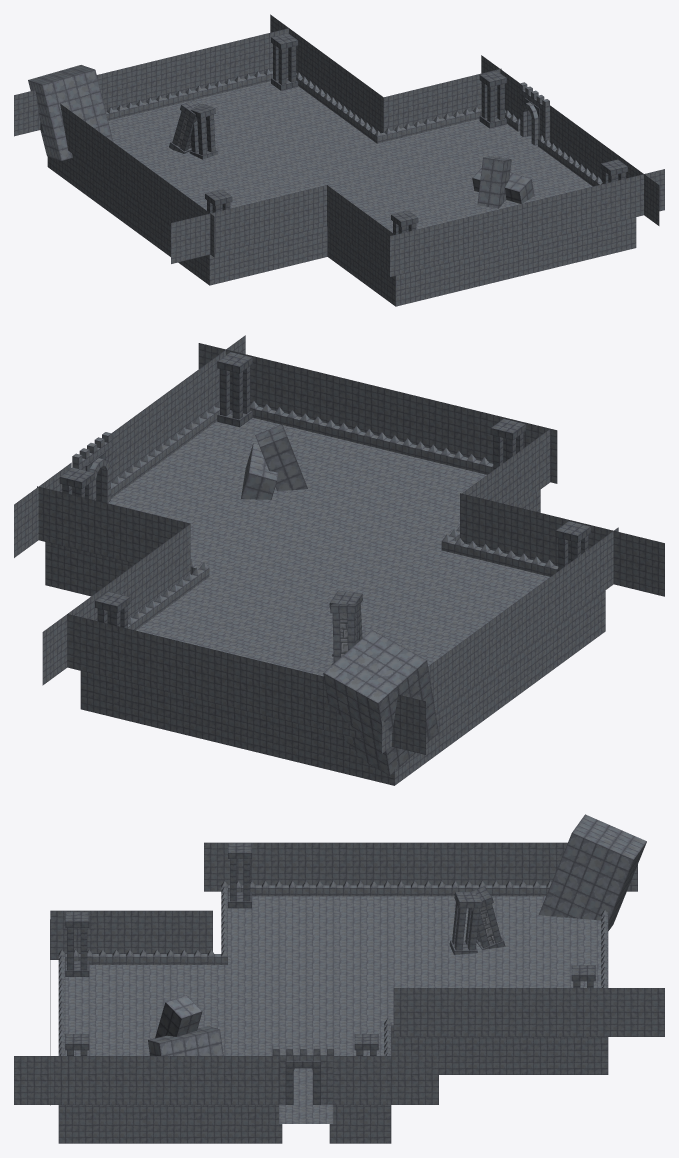
File: GameObject.fbx
The picture shows the model from 3 angles, top to bottom: view 1: azimuth 30°, elevation 25°; view 2: azimuth 150°, elevation 25°; view 3: azimuth 270°, elevation 25°; orthographic projection. The views are drawn at different scales.
Parts seen in each view (by area): view 1: Castle_Block_5x5x7__2_, Castle_Ground___Bright_8x8__22_, Castle_Ground___Bright_8x8__23_, Castle_Ground___Bright_8x8__25_, Castle_Ground___Bright_8x8__26_, Castle_Ground___Bright_8x8__33_, Castle_Ground___Bright_8x8__21_, Castle_Ground___Bright_8x8__24_, Castle_Ground___Bright_8x8__20_, Castle_Ground___Bright_8x8__34_, Castle_Ground___Bright_8x8__36_, Castle_Ground___Bright_8x8__35_ (+101 smaller); view 2: Castle_Block_5x5x7__2_, Castle_Ground___Bright_8x8__36_, Castle_Ground___Bright_8x8__40_, Castle_Ground___Bright_8x8__37_, Castle_Ground___Bright_8x8__39_, Castle_Ground___Bright_8x8__21_, Castle_Ground___Bright_8x8__17__1, Castle_Ground___Bright_8x8__18__1, Castle_Ground___Bright_8x8__35_, Castle_Ground___Bright_8x8__24_, Castle_Ground___Bright_8x8__25_, Castle_Ground___Bright_8x8__23_ (+97 smaller); view 3: Castle_Block_5x5x7__2_, Castle_Ground___Bright_8x8__3_, Castle_Ground___Bright_8x8__3__1, Castle_Ground___Bright_8x8__3__2, Castle_Ground___Bright_8x8__19__1, Castle_Ground___Bright_8x8__28_, Castle_Ground___Bright_8x8__29_, Castle_Ground___Bright_8x8__30_, Castle_Ground___Bright_8x8__31_, Castle_Ground___Bright_8x8__3__3, Castle_Ground___Bright_8x8__4__1, Castle_Ground___Bright_8x8__4_ (+84 smaller).
Boxes of the visible parts, bbox=[...] form: Castle_Block_5x5x7__2_: bbox=[28, 65, 113, 160]; Castle_Ground___Bright_8x8__22_: bbox=[429, 217, 468, 267]; Castle_Ground___Bright_8x8__23_: bbox=[468, 207, 507, 257]; Castle_Ground___Bright_8x8__25_: bbox=[547, 188, 586, 238]; Castle_Ground___Bright_8x8__26_: bbox=[586, 178, 625, 229]; Castle_Ground___Bright_8x8__33_: bbox=[249, 194, 288, 244]; Castle_Ground___Bright_8x8__21_: bbox=[171, 213, 210, 263]; Castle_Ground___Bright_8x8__24_: bbox=[507, 198, 546, 248]; Castle_Ground___Bright_8x8__20_: bbox=[390, 226, 428, 276]; Castle_Ground___Bright_8x8__34_: bbox=[289, 185, 328, 235]; Castle_Ground___Bright_8x8__36_: bbox=[210, 37, 249, 85]; Castle_Ground___Bright_8x8__35_: bbox=[171, 47, 210, 95]; Castle_Block_5x5x7__2_: bbox=[323, 630, 438, 775]; Castle_Ground___Bright_8x8__36_: bbox=[118, 626, 169, 692]; Castle_Ground___Bright_8x8__40_: bbox=[221, 651, 272, 717]; Castle_Ground___Bright_8x8__37_: bbox=[67, 614, 118, 679]; Castle_Ground___Bright_8x8__39_: bbox=[272, 664, 323, 729]; Castle_Ground___Bright_8x8__21_: bbox=[613, 531, 664, 596]; Castle_Ground___Bright_8x8__17__1: bbox=[88, 499, 139, 563]; Castle_Ground___Bright_8x8__18__1: bbox=[37, 486, 88, 552]; Castle_Ground___Bright_8x8__35_: bbox=[170, 639, 220, 704]; Castle_Ground___Bright_8x8__24_: bbox=[352, 380, 403, 441]; Castle_Ground___Bright_8x8__25_: bbox=[301, 368, 352, 429]; Castle_Ground___Bright_8x8__23_: bbox=[403, 393, 454, 454]; Castle_Block_5x5x7__2_: bbox=[538, 814, 646, 930]; Castle_Ground___Bright_8x8__3_: bbox=[224, 1056, 278, 1104]; Castle_Ground___Bright_8x8__3__1: bbox=[170, 1056, 224, 1104]; Castle_Ground___Bright_8x8__3__2: bbox=[333, 1056, 387, 1104]; Castle_Ground___Bright_8x8__19__1: bbox=[393, 988, 447, 1036]; Castle_Ground___Bright_8x8__28_: bbox=[448, 988, 502, 1036]; Castle_Ground___Bright_8x8__29_: bbox=[502, 988, 556, 1036]; Castle_Ground___Bright_8x8__30_: bbox=[556, 988, 610, 1036]; Castle_Ground___Bright_8x8__31_: bbox=[610, 988, 664, 1036]; Castle_Ground___Bright_8x8__3__3: bbox=[116, 1056, 170, 1104]; Castle_Ground___Bright_8x8__4__1: bbox=[14, 1056, 68, 1104]; Castle_Ground___Bright_8x8__4_: bbox=[387, 1056, 438, 1104].
Size of the model in its own units: 6680 by 1469 by 7200.
Materials: 1 (1 with a texture image).
